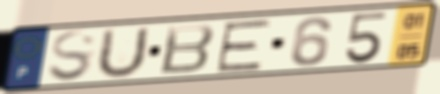5: (343, 10, 390, 66)
6: (288, 15, 333, 69)
B: (157, 22, 218, 76)
E: (213, 17, 275, 74)
S: (46, 29, 99, 84)
U: (92, 24, 153, 82)
